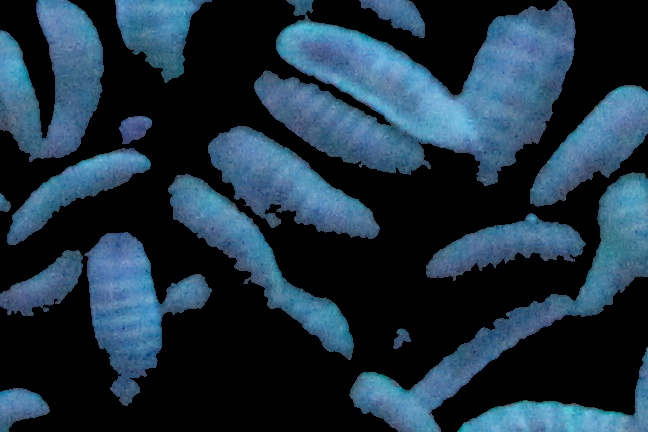larvae: (421, 1, 576, 234), (276, 29, 486, 158), (243, 69, 445, 177), (204, 131, 391, 244), (160, 167, 295, 310), (397, 289, 573, 394), (85, 231, 173, 422), (540, 78, 648, 208), (9, 153, 150, 242), (417, 215, 591, 283), (38, 1, 109, 165), (118, 1, 208, 123), (591, 172, 648, 312), (1, 238, 93, 322), (458, 390, 631, 432), (323, 371, 440, 432), (270, 276, 356, 357), (1, 27, 47, 162), (320, 1, 426, 39)
